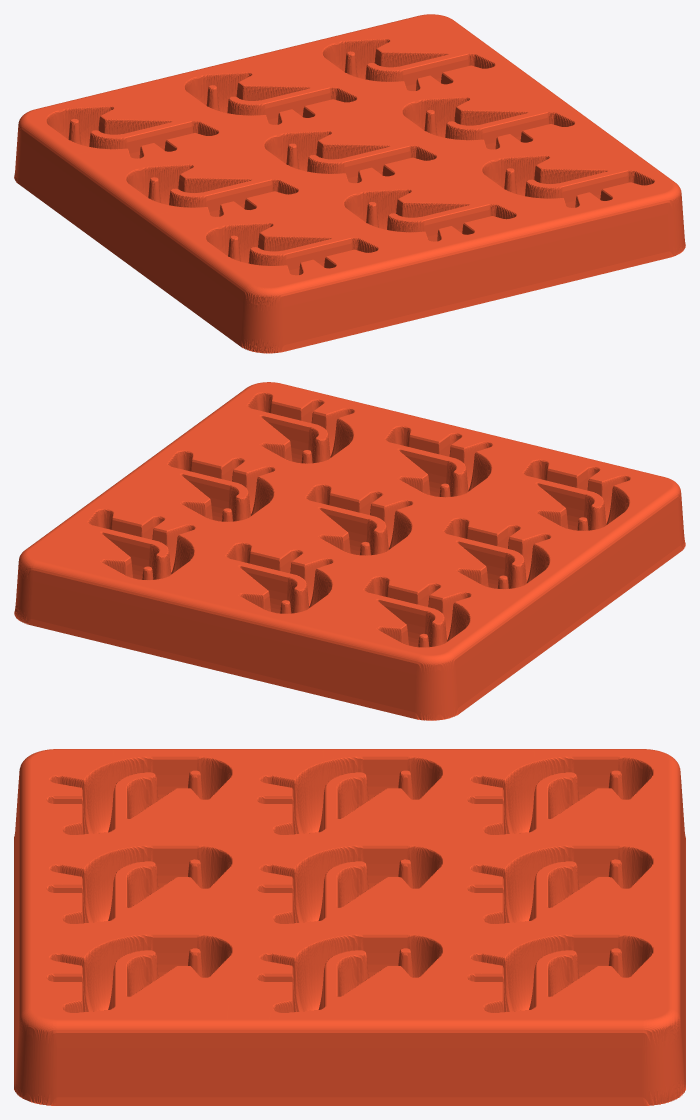
The model's file is mold.glb.
3 views of the same model, one above another, from view 1: azimuth 30°, elevation 25°; view 2: azimuth 150°, elevation 25°; view 3: azimuth 270°, elevation 25° (orthographic). The views are drawn at different scales.
Parts seen in each view (by area): view 1: geometry_0; view 2: geometry_0; view 3: geometry_0.
Boxes of the visible parts, bbox=[...] form: geometry_0: bbox=[14, 14, 685, 353]; geometry_0: bbox=[14, 382, 685, 720]; geometry_0: bbox=[14, 749, 685, 1105].
Bounding box in the file's own units: 0.1402 × 0.0182 × 0.1402.
